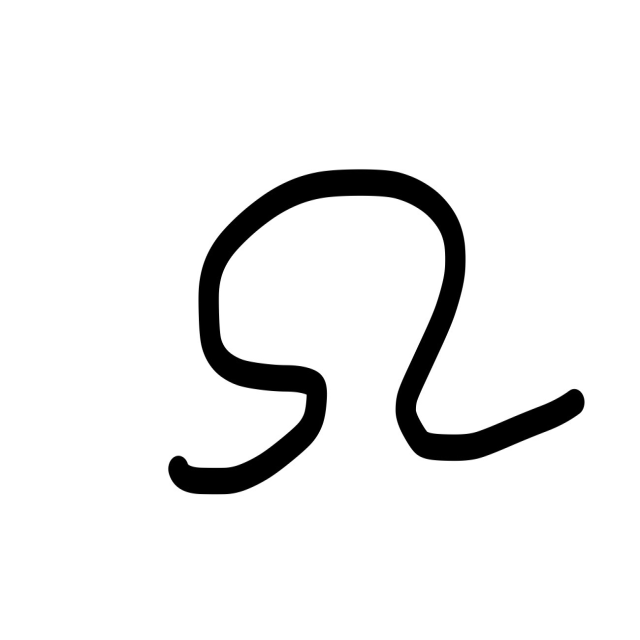ohms: (176, 103, 597, 582)
